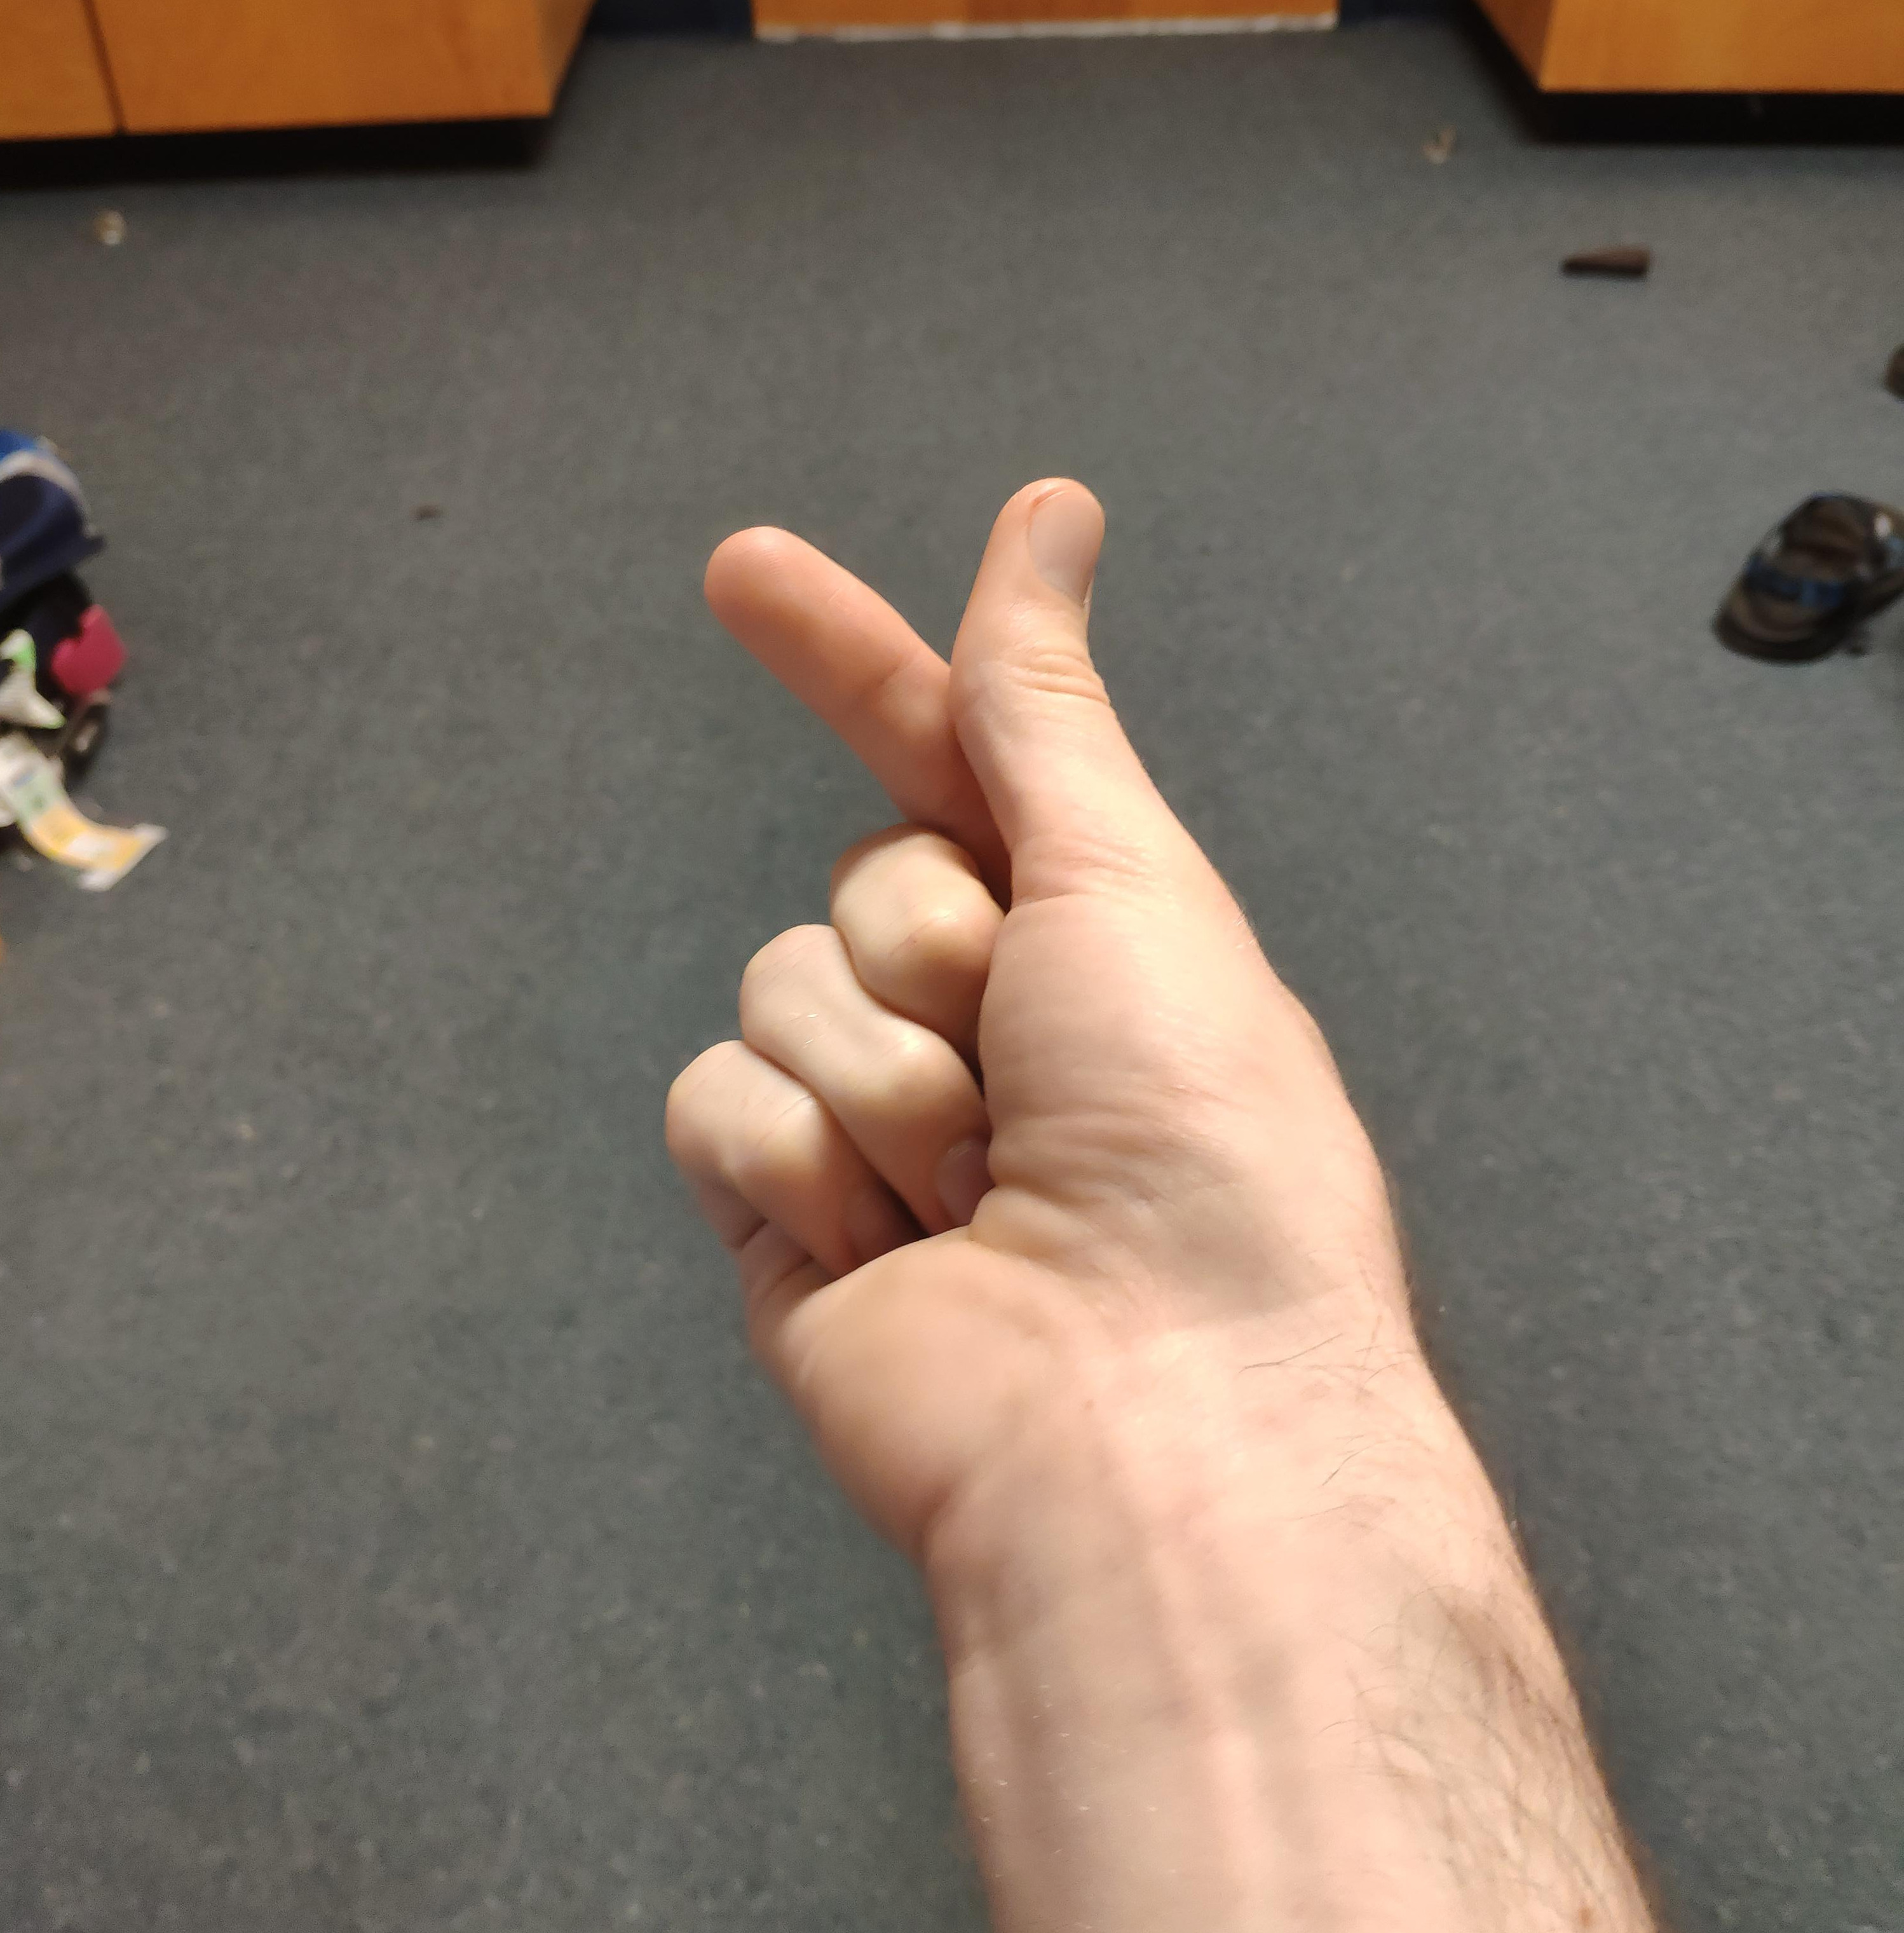heart gesture: (690, 468, 1119, 823)
